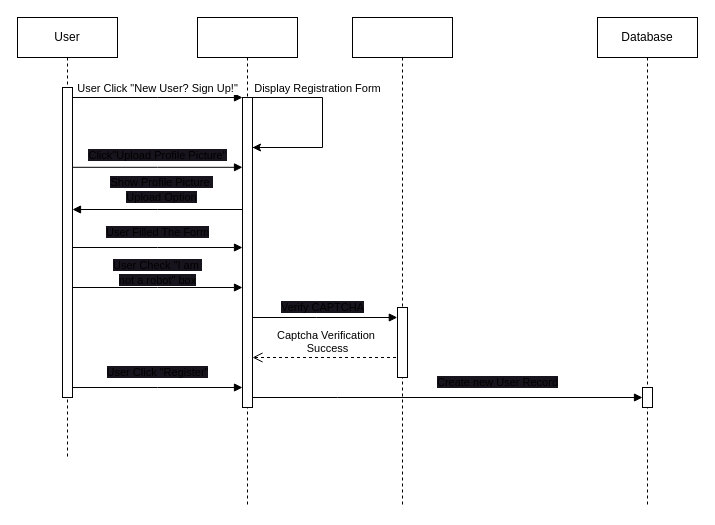
The diagram is 715 pixels wide and 525 high, and some of its shapes have lost their labels. Each missing label, with the box of its shape:
Capacha: (352, 16, 452, 508)
Website: (196, 16, 298, 508)
